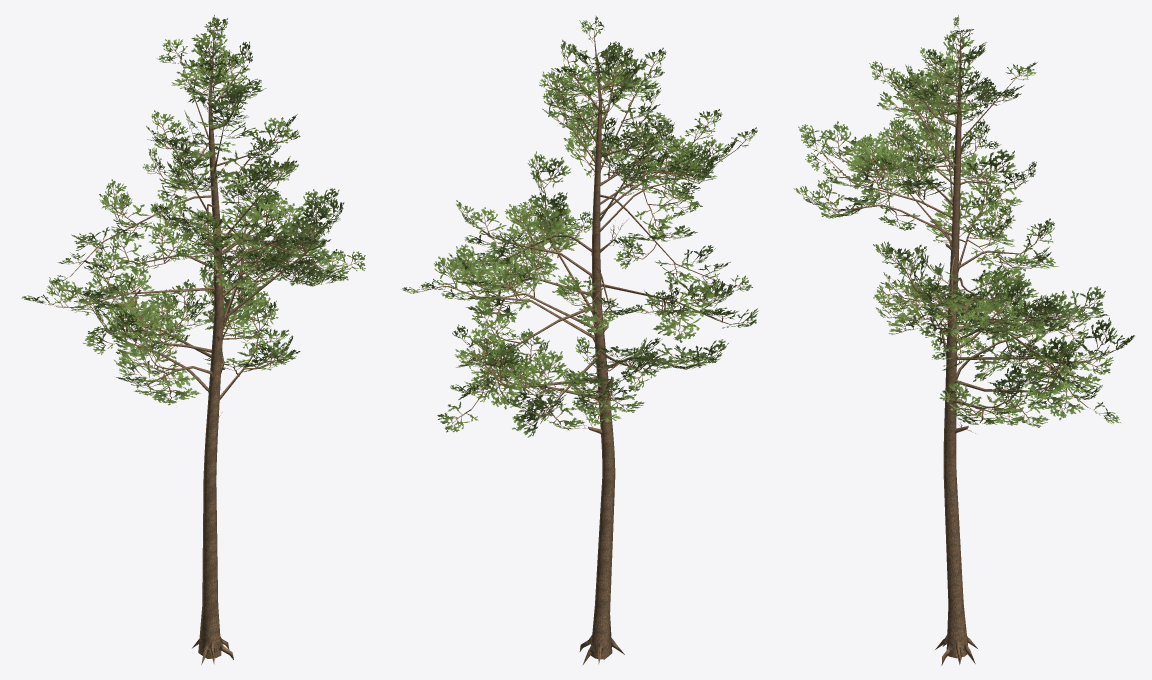
3 renders of one model, left to right at view 1: azimuth 30°, elevation 25°; view 2: azimuth 150°, elevation 25°; view 3: azimuth 270°, elevation 25°, orthographic.
Visible parts, largest first — view 1: Pine_large_1_LOD2_Bark_Mat_0; view 2: Pine_large_1_LOD2_Bark_Mat_0; view 3: Pine_large_1_LOD2_Bark_Mat_0.
Boxes of the visible parts, x1=… form: Pine_large_1_LOD2_Bark_Mat_0: x1=21, y1=15, x2=365, y2=664; Pine_large_1_LOD2_Bark_Mat_0: x1=402, y1=15, x2=758, y2=664; Pine_large_1_LOD2_Bark_Mat_0: x1=793, y1=15, x2=1134, y2=665.
Bounding box in the file's own units: 17.12 × 31.81 × 15.45.
